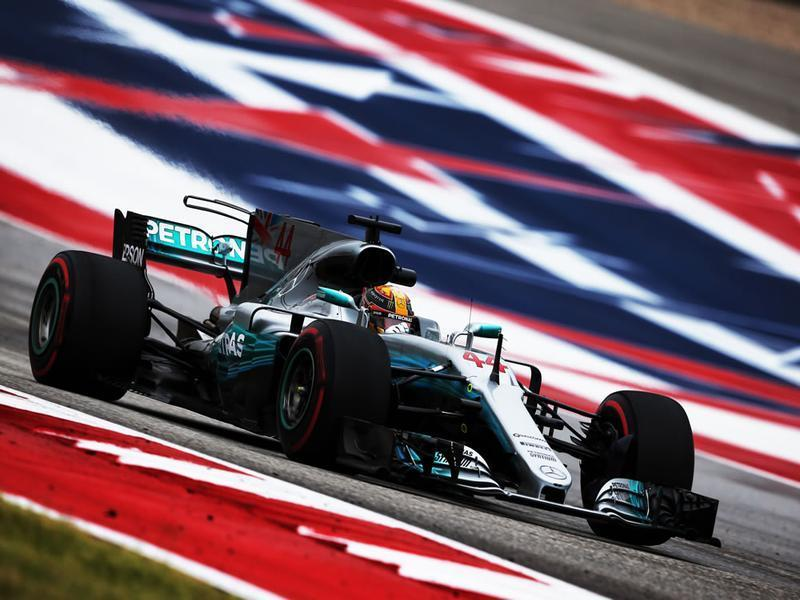f1: (21, 161, 731, 542)
